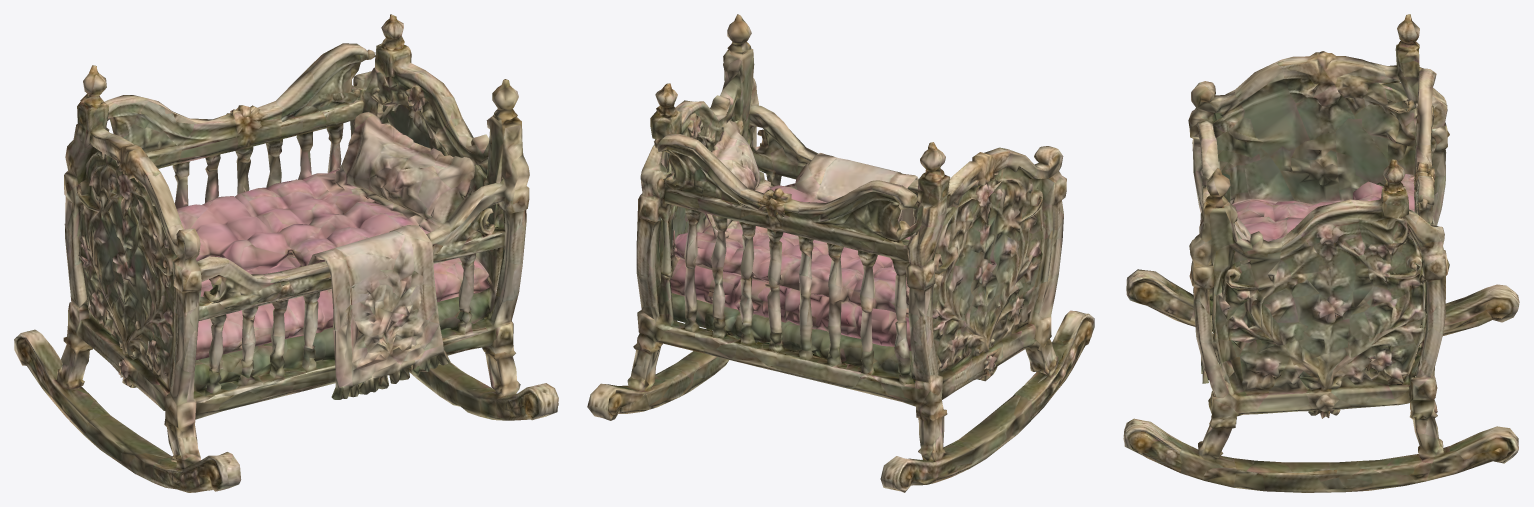
3 views of the same model, side by side, from view 1: azimuth 30°, elevation 25°; view 2: azimuth 150°, elevation 25°; view 3: azimuth 270°, elevation 25° (orthographic). The views are drawn at different scales.
Size of the model in its own units: 1.8 by 1.78 by 1.9.
1 material, 1 textured.
